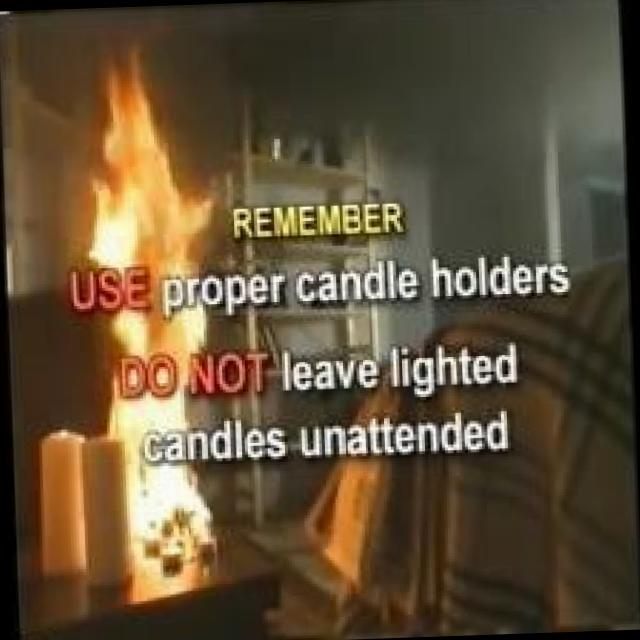fire: (66, 48, 223, 547)
